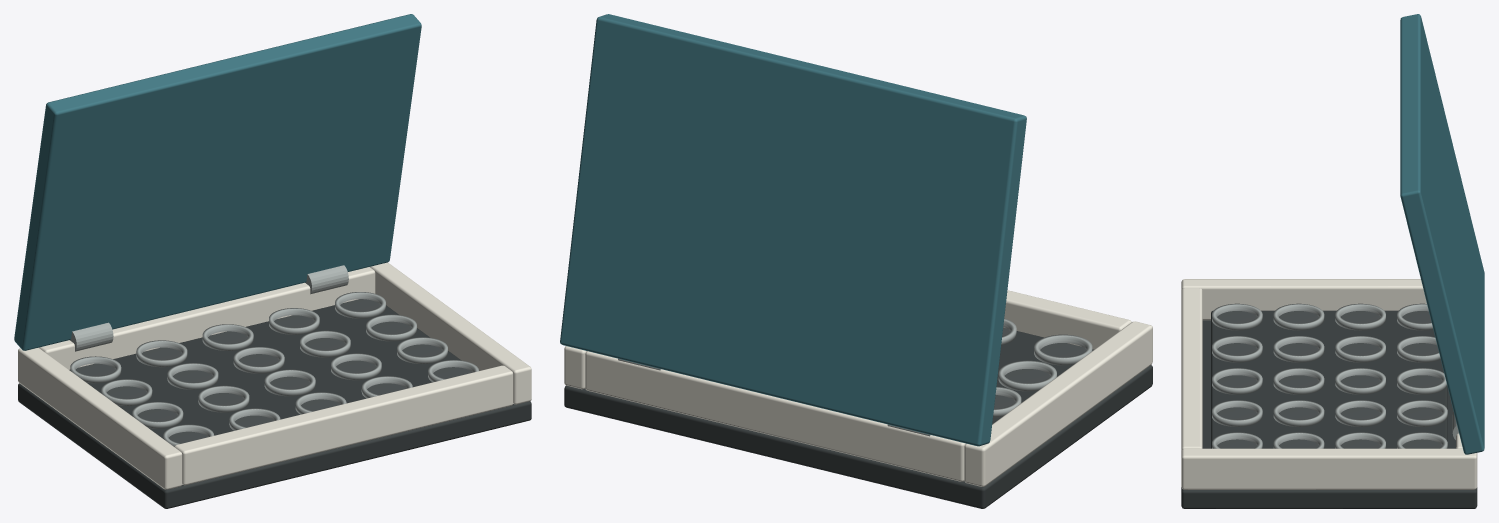
Rendered from optician-and-optical-lens-workshop-optician-and-optica-1ed61ec6__31676.glb.
3 views of the same model, side by side, from view 1: azimuth 30°, elevation 25°; view 2: azimuth 150°, elevation 25°; view 3: azimuth 270°, elevation 25° (orthographic). The views are drawn at different scales.
Visible parts, largest first — view 1: optician-and-optical-lens-workshop-trial-lens-case; view 2: optician-and-optical-lens-workshop-trial-lens-case; view 3: optician-and-optical-lens-workshop-trial-lens-case.
Part boxes in pixels (<box>): optician-and-optical-lens-workshop-trial-lens-case: <box>14,14,531,508</box>; optician-and-optical-lens-workshop-trial-lens-case: <box>560,14,1152,508</box>; optician-and-optical-lens-workshop-trial-lens-case: <box>1181,14,1484,508</box>.
Size of the model in its own units: 0.5 by 0.4162 by 0.3586.
